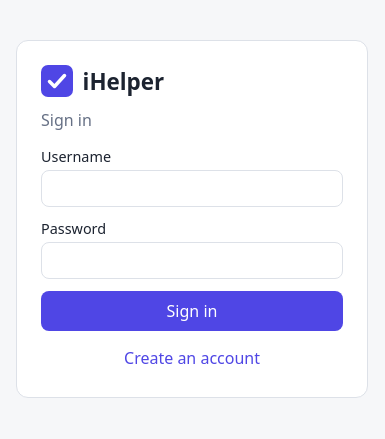
Test case: AuthGate › shows the server message for a wrong password and stays on the form
This screenshot has width=385, height=439.
Check: the heading "Sign in" is shown, box [41, 109, 92, 131]
In the field labelled "Username": point(192, 189) [41, 170, 343, 207], type "georgi"
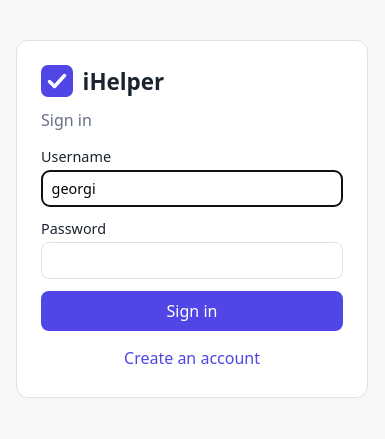
In the password field labelled "Password": point(192, 261) [41, 242, 343, 279], type "not-the-password"
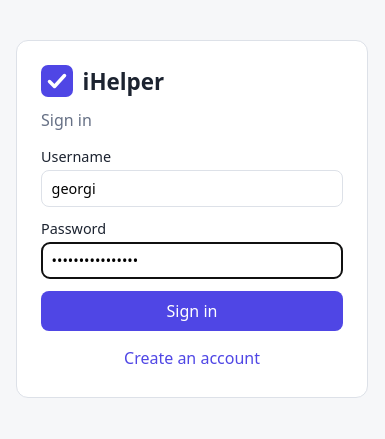
Click the button "Sign in": point(192, 311) [41, 291, 343, 331]
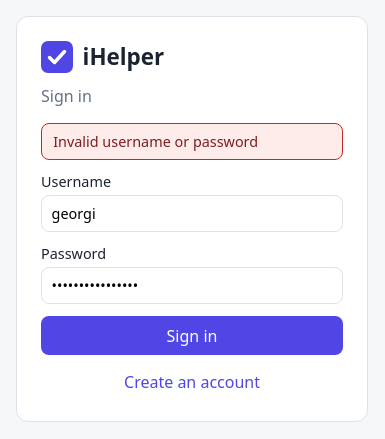
Check: the heading "Sign in" is shown, box [41, 85, 92, 107]
Check: the message reads "Invalid username or password", box [53, 132, 258, 151]
